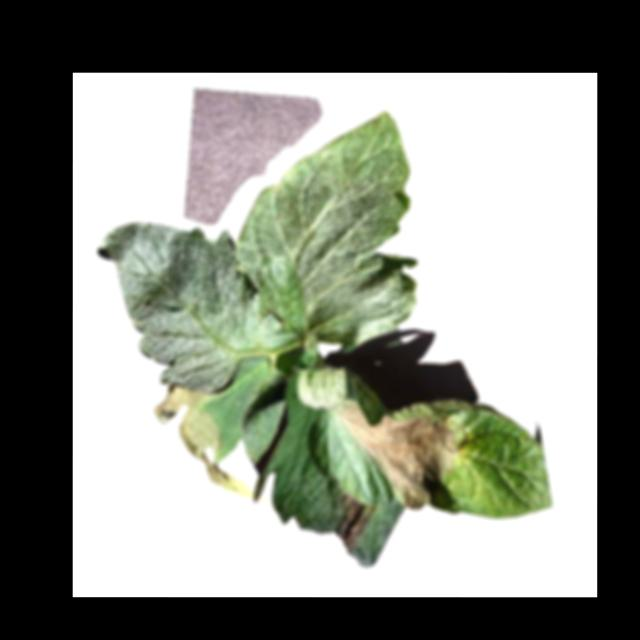Late_blight: (334, 398, 456, 511), (149, 386, 254, 502), (336, 492, 378, 550)
healthy: (231, 108, 417, 346), (95, 220, 304, 393)
